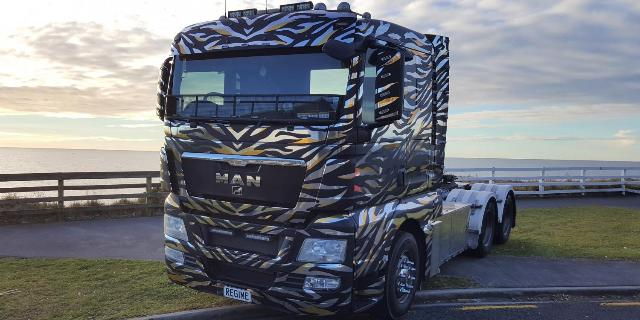truck: (137, 3, 529, 318)
